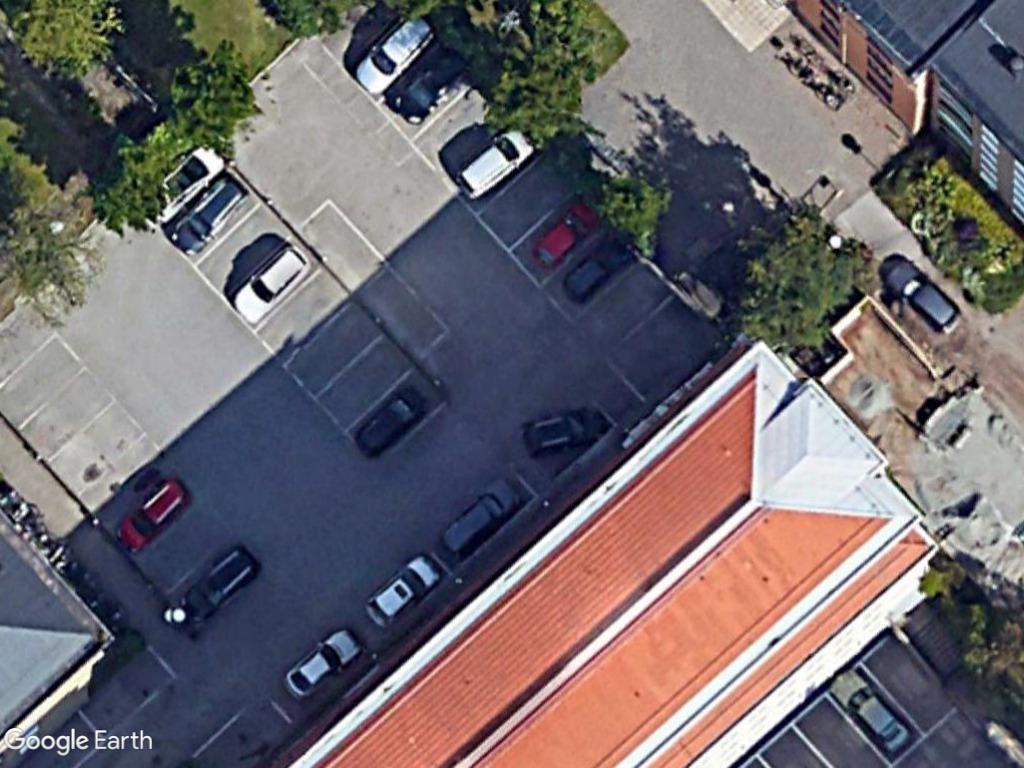car: (166, 540, 259, 637), (347, 4, 437, 103), (827, 666, 916, 760), (164, 167, 249, 263), (430, 472, 520, 560), (110, 471, 196, 557), (276, 623, 364, 707), (347, 376, 433, 461), (226, 239, 309, 326), (446, 123, 536, 202), (361, 547, 443, 631), (880, 255, 965, 336), (523, 193, 600, 276), (552, 232, 641, 302), (519, 395, 610, 462)
